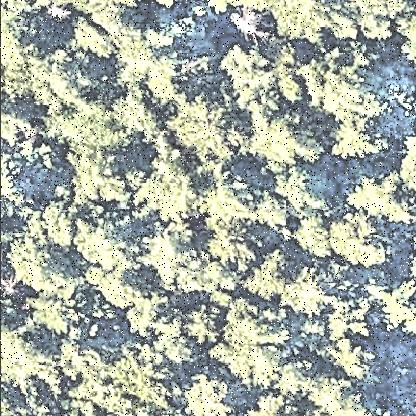tree-top: (214, 299, 286, 392), (88, 339, 174, 416), (70, 210, 144, 280), (12, 208, 70, 297), (310, 53, 383, 121), (168, 91, 234, 166), (252, 109, 327, 171), (68, 146, 138, 212), (326, 207, 396, 271), (1, 108, 63, 178), (123, 27, 177, 107), (30, 50, 96, 112), (131, 304, 197, 366), (140, 165, 204, 227), (196, 166, 260, 227), (1, 328, 63, 390), (243, 1, 326, 47), (70, 1, 137, 56), (221, 45, 278, 107), (328, 1, 407, 44), (363, 272, 416, 336), (1, 9, 41, 93), (53, 103, 123, 151), (282, 268, 343, 323), (341, 168, 403, 220), (143, 225, 199, 282), (331, 117, 389, 169), (182, 369, 242, 416), (246, 250, 297, 303), (27, 285, 88, 328), (115, 90, 159, 148), (271, 357, 319, 408), (273, 170, 326, 212), (328, 299, 372, 347), (208, 223, 259, 264), (185, 262, 236, 302), (310, 366, 350, 416), (292, 213, 328, 261), (325, 342, 369, 379), (260, 191, 291, 243), (184, 303, 222, 341), (252, 388, 301, 416), (397, 127, 416, 197), (393, 11, 416, 64)
